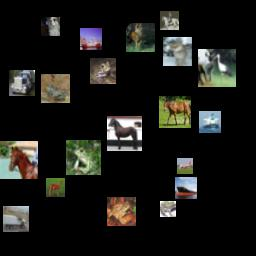airplane: (177, 158, 193, 174)
bird: (198, 49, 236, 87)
cat: (163, 37, 192, 66)
deer: (126, 23, 155, 52), (46, 178, 65, 197)
dog: (41, 17, 60, 36)
frog: (66, 140, 101, 175), (107, 197, 136, 226), (41, 74, 70, 103), (90, 58, 116, 84), (160, 201, 176, 217)
ship: (199, 111, 221, 133), (175, 177, 197, 199), (80, 28, 102, 50)
truck: (9, 70, 35, 96), (3, 206, 29, 232)
